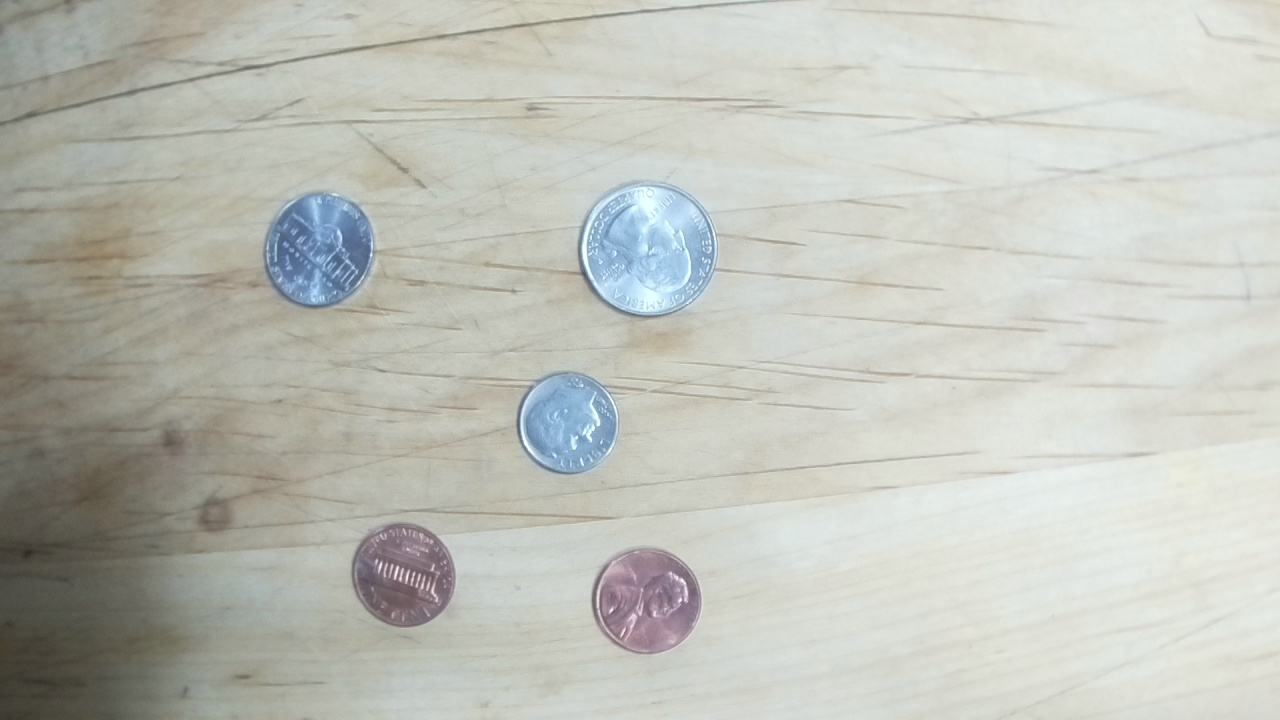dime: (516, 370, 620, 476)
nickel: (259, 186, 377, 314)
penny: (592, 544, 706, 654), (349, 520, 457, 628)
quarter: (578, 178, 718, 320)
